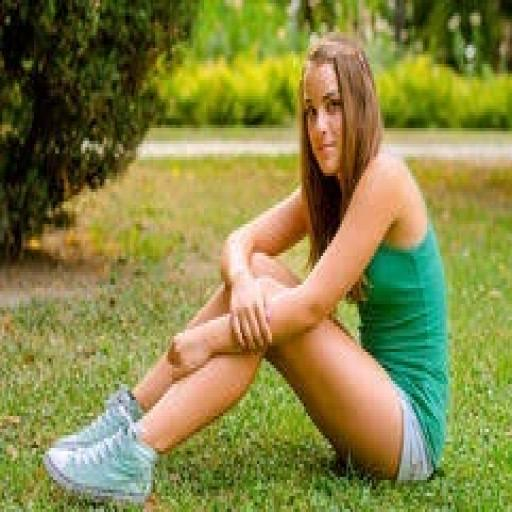sitting: (40, 28, 452, 506)
